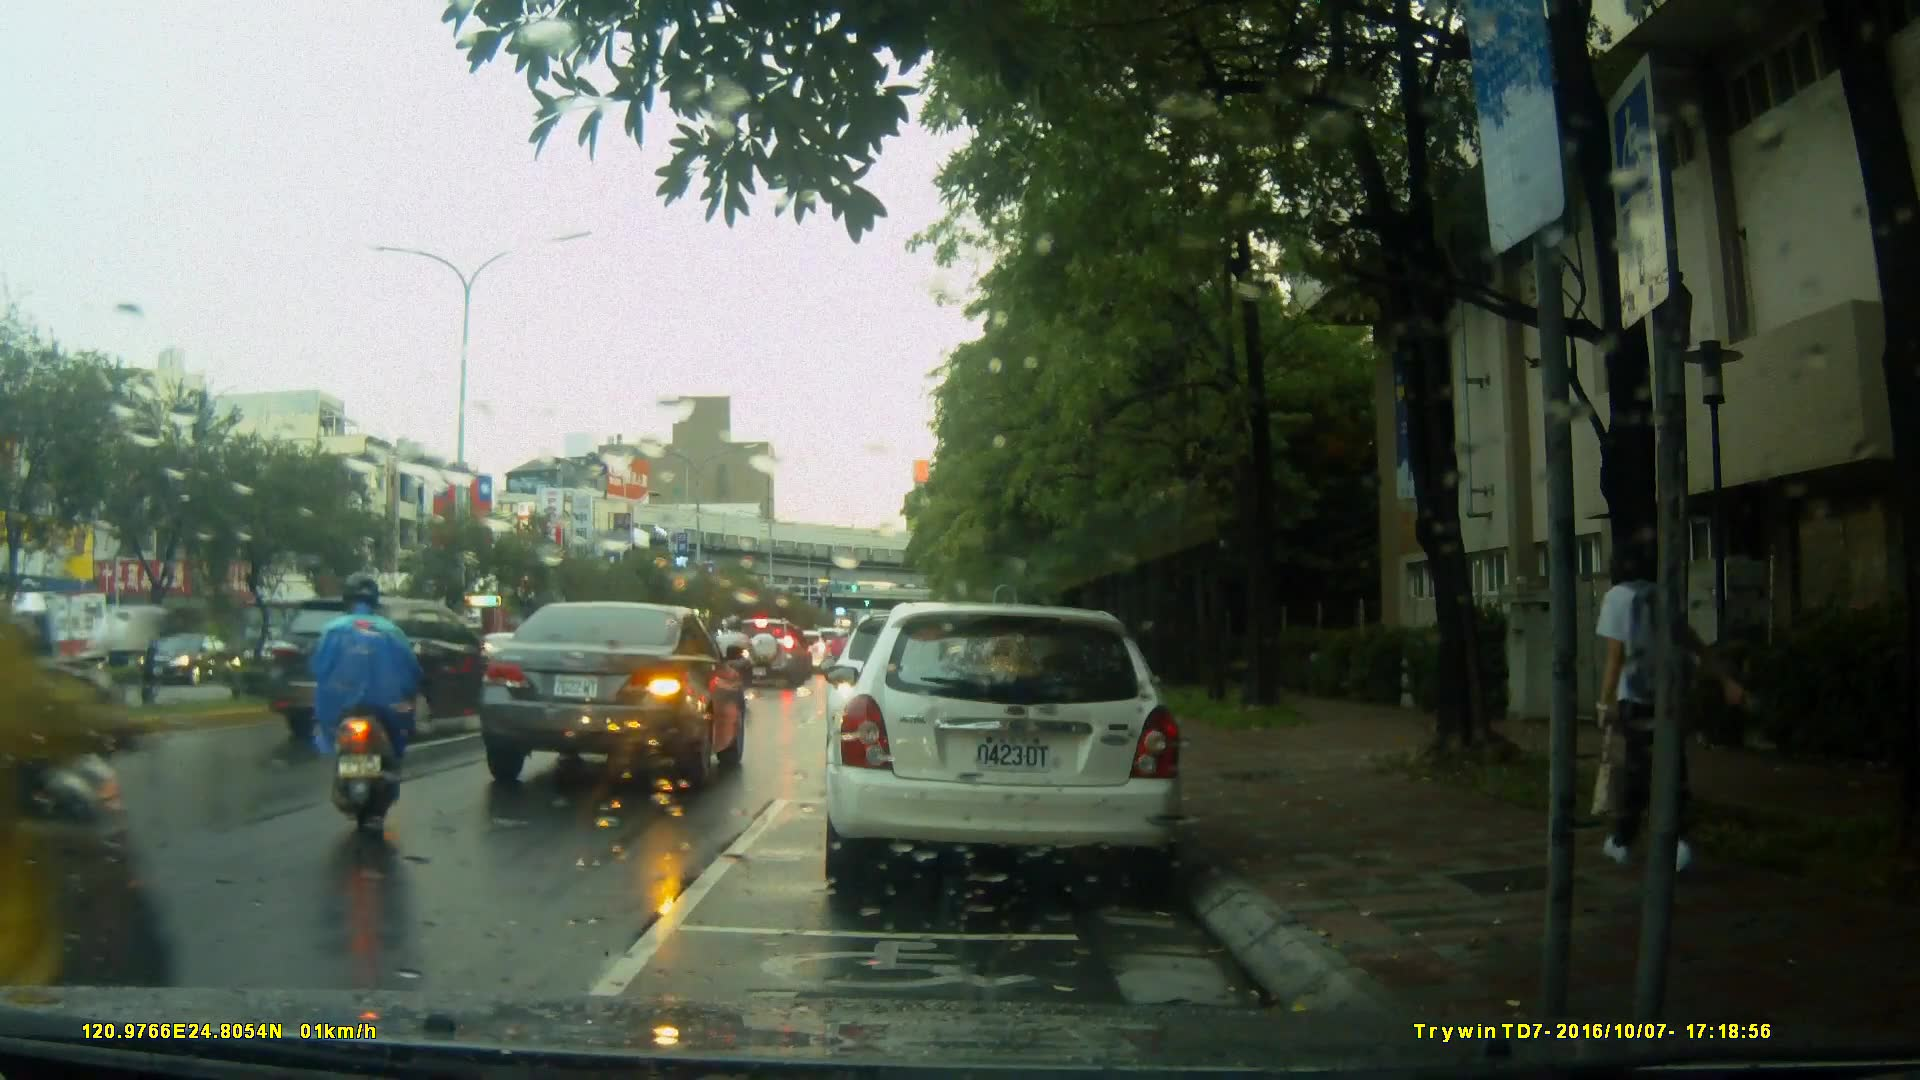pedestrian: (1563, 515, 1701, 878)
rider: (1, 455, 181, 1080), (321, 573, 427, 836), (716, 614, 756, 703)
vehicle: (820, 602, 1188, 898), (480, 600, 750, 792), (264, 594, 510, 745), (730, 618, 812, 690), (134, 634, 239, 689)
